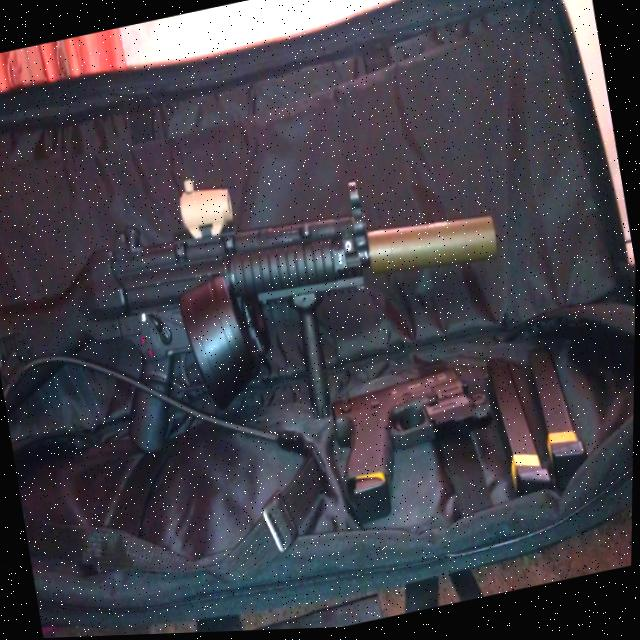firearm: (0, 113, 523, 487)
pistol: (325, 357, 508, 531)
